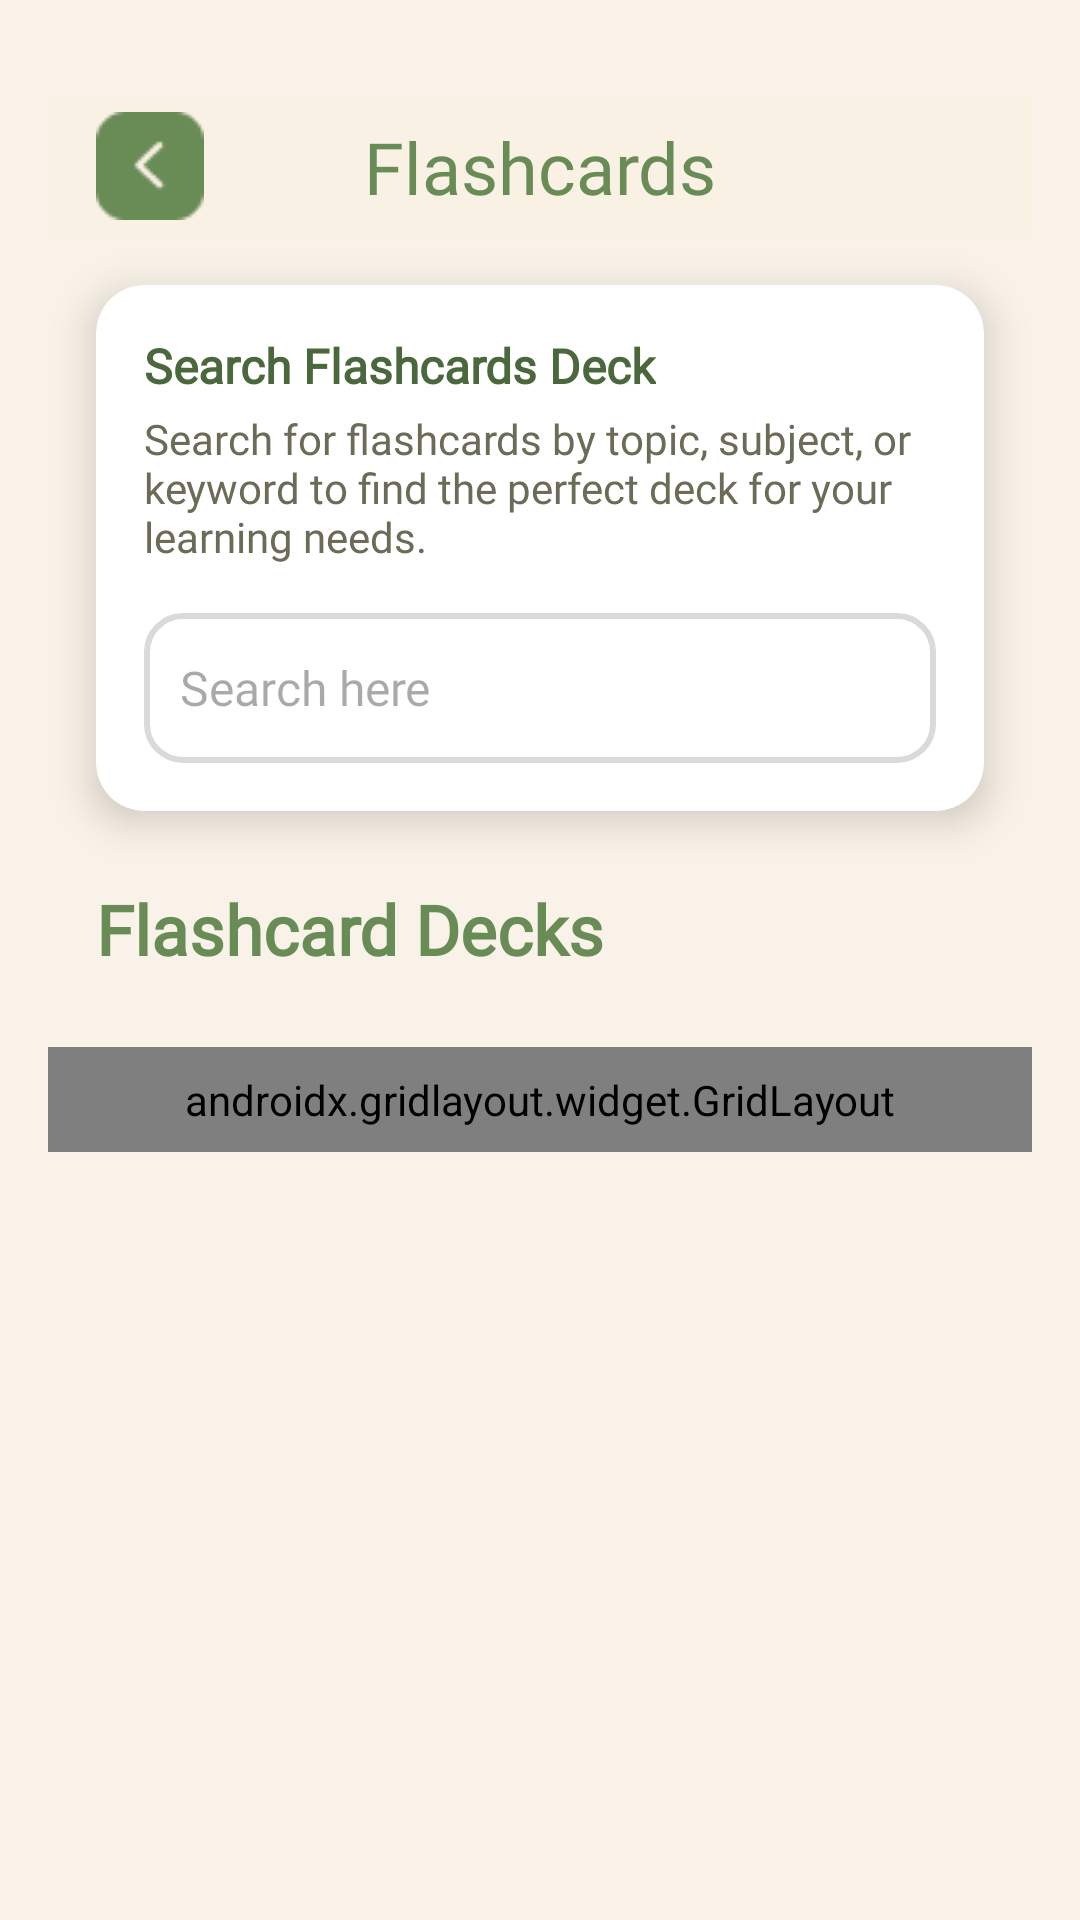

Icons on this 1080×1920 Android screen, each with the point to tap as [x,y]:
Back Button: [150,166]
